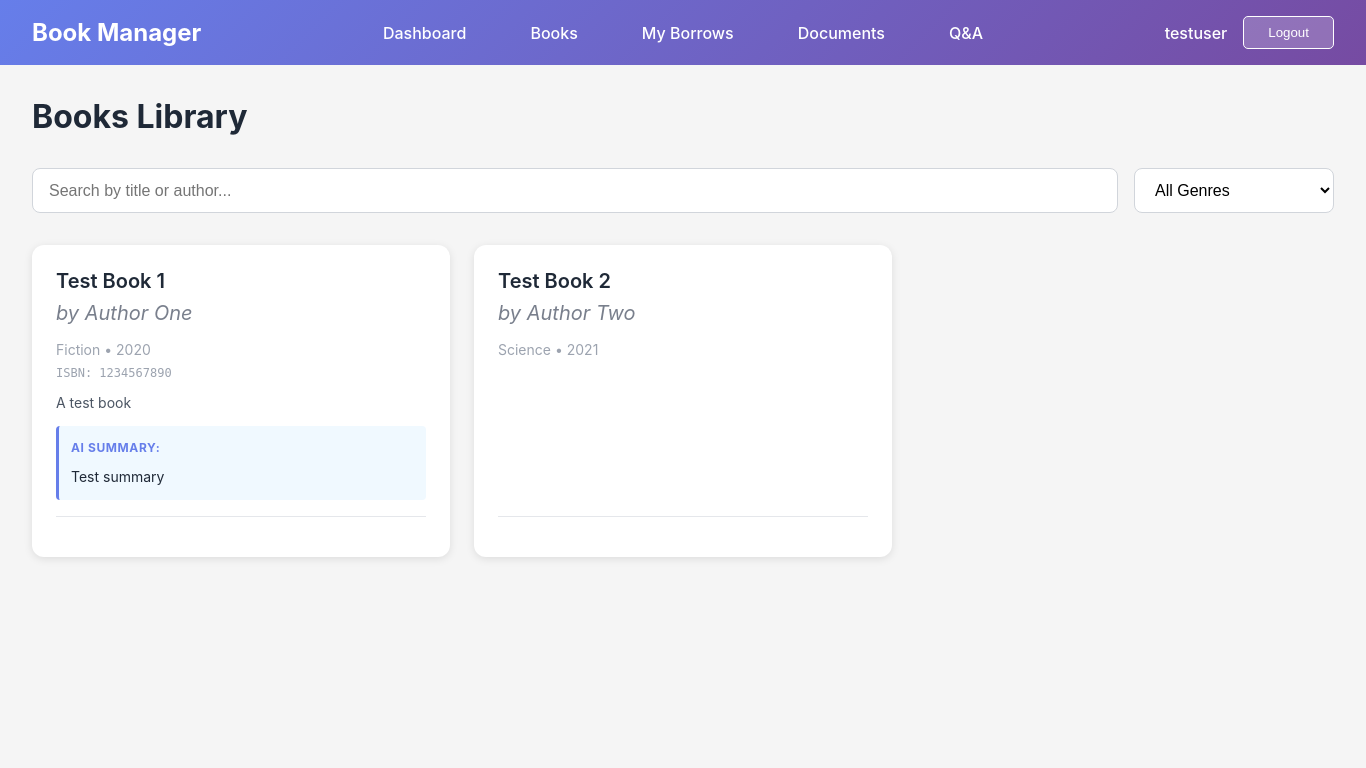
Test: Books Component › Search and filter functionality › should filter books by author
Expected: the link "Test Book 1" is shown, [56,269,165,293]
Type "Author Two" into the field with placeholder "Search by title or author..." at (575, 190), box [32,168,1118,213]
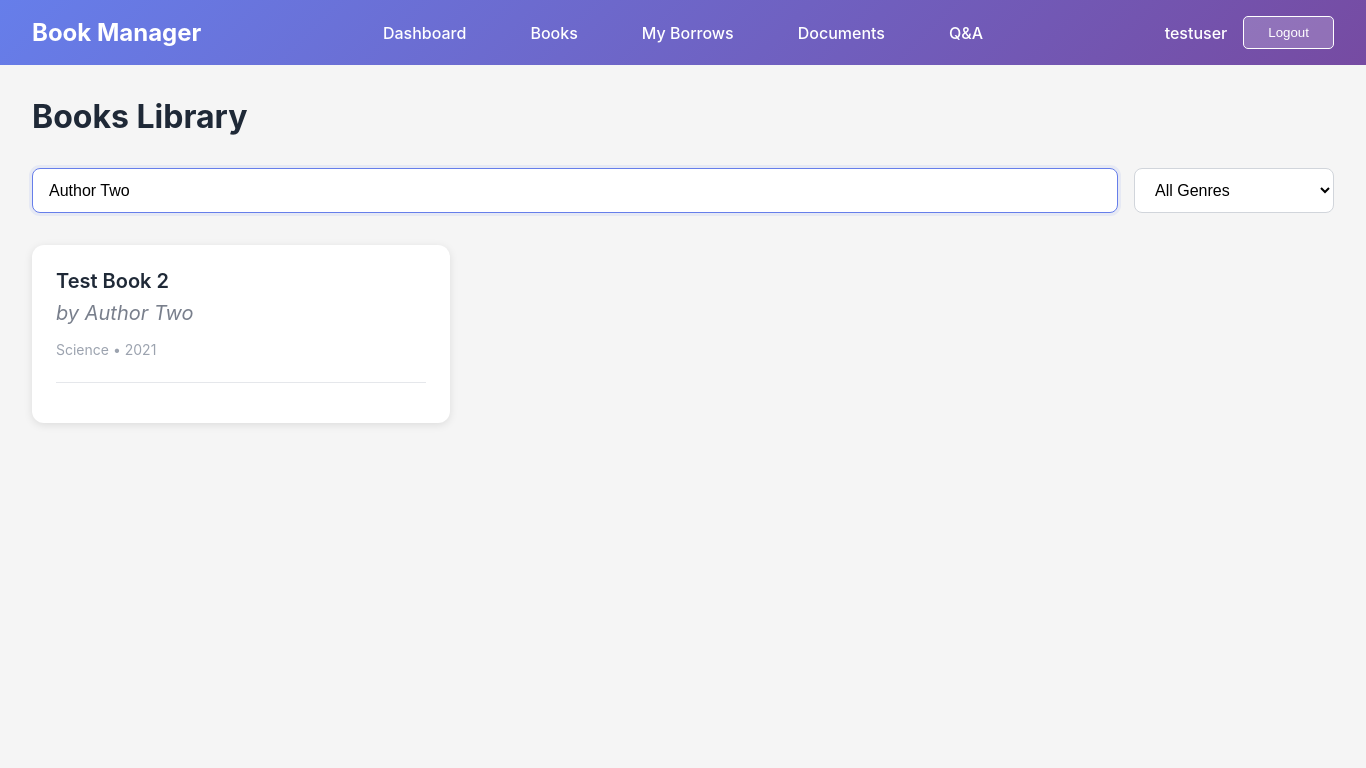
Expected: the link "Test Book 2" is shown, [56,269,169,293]
Expected: the link "Test Book 1" is gone
